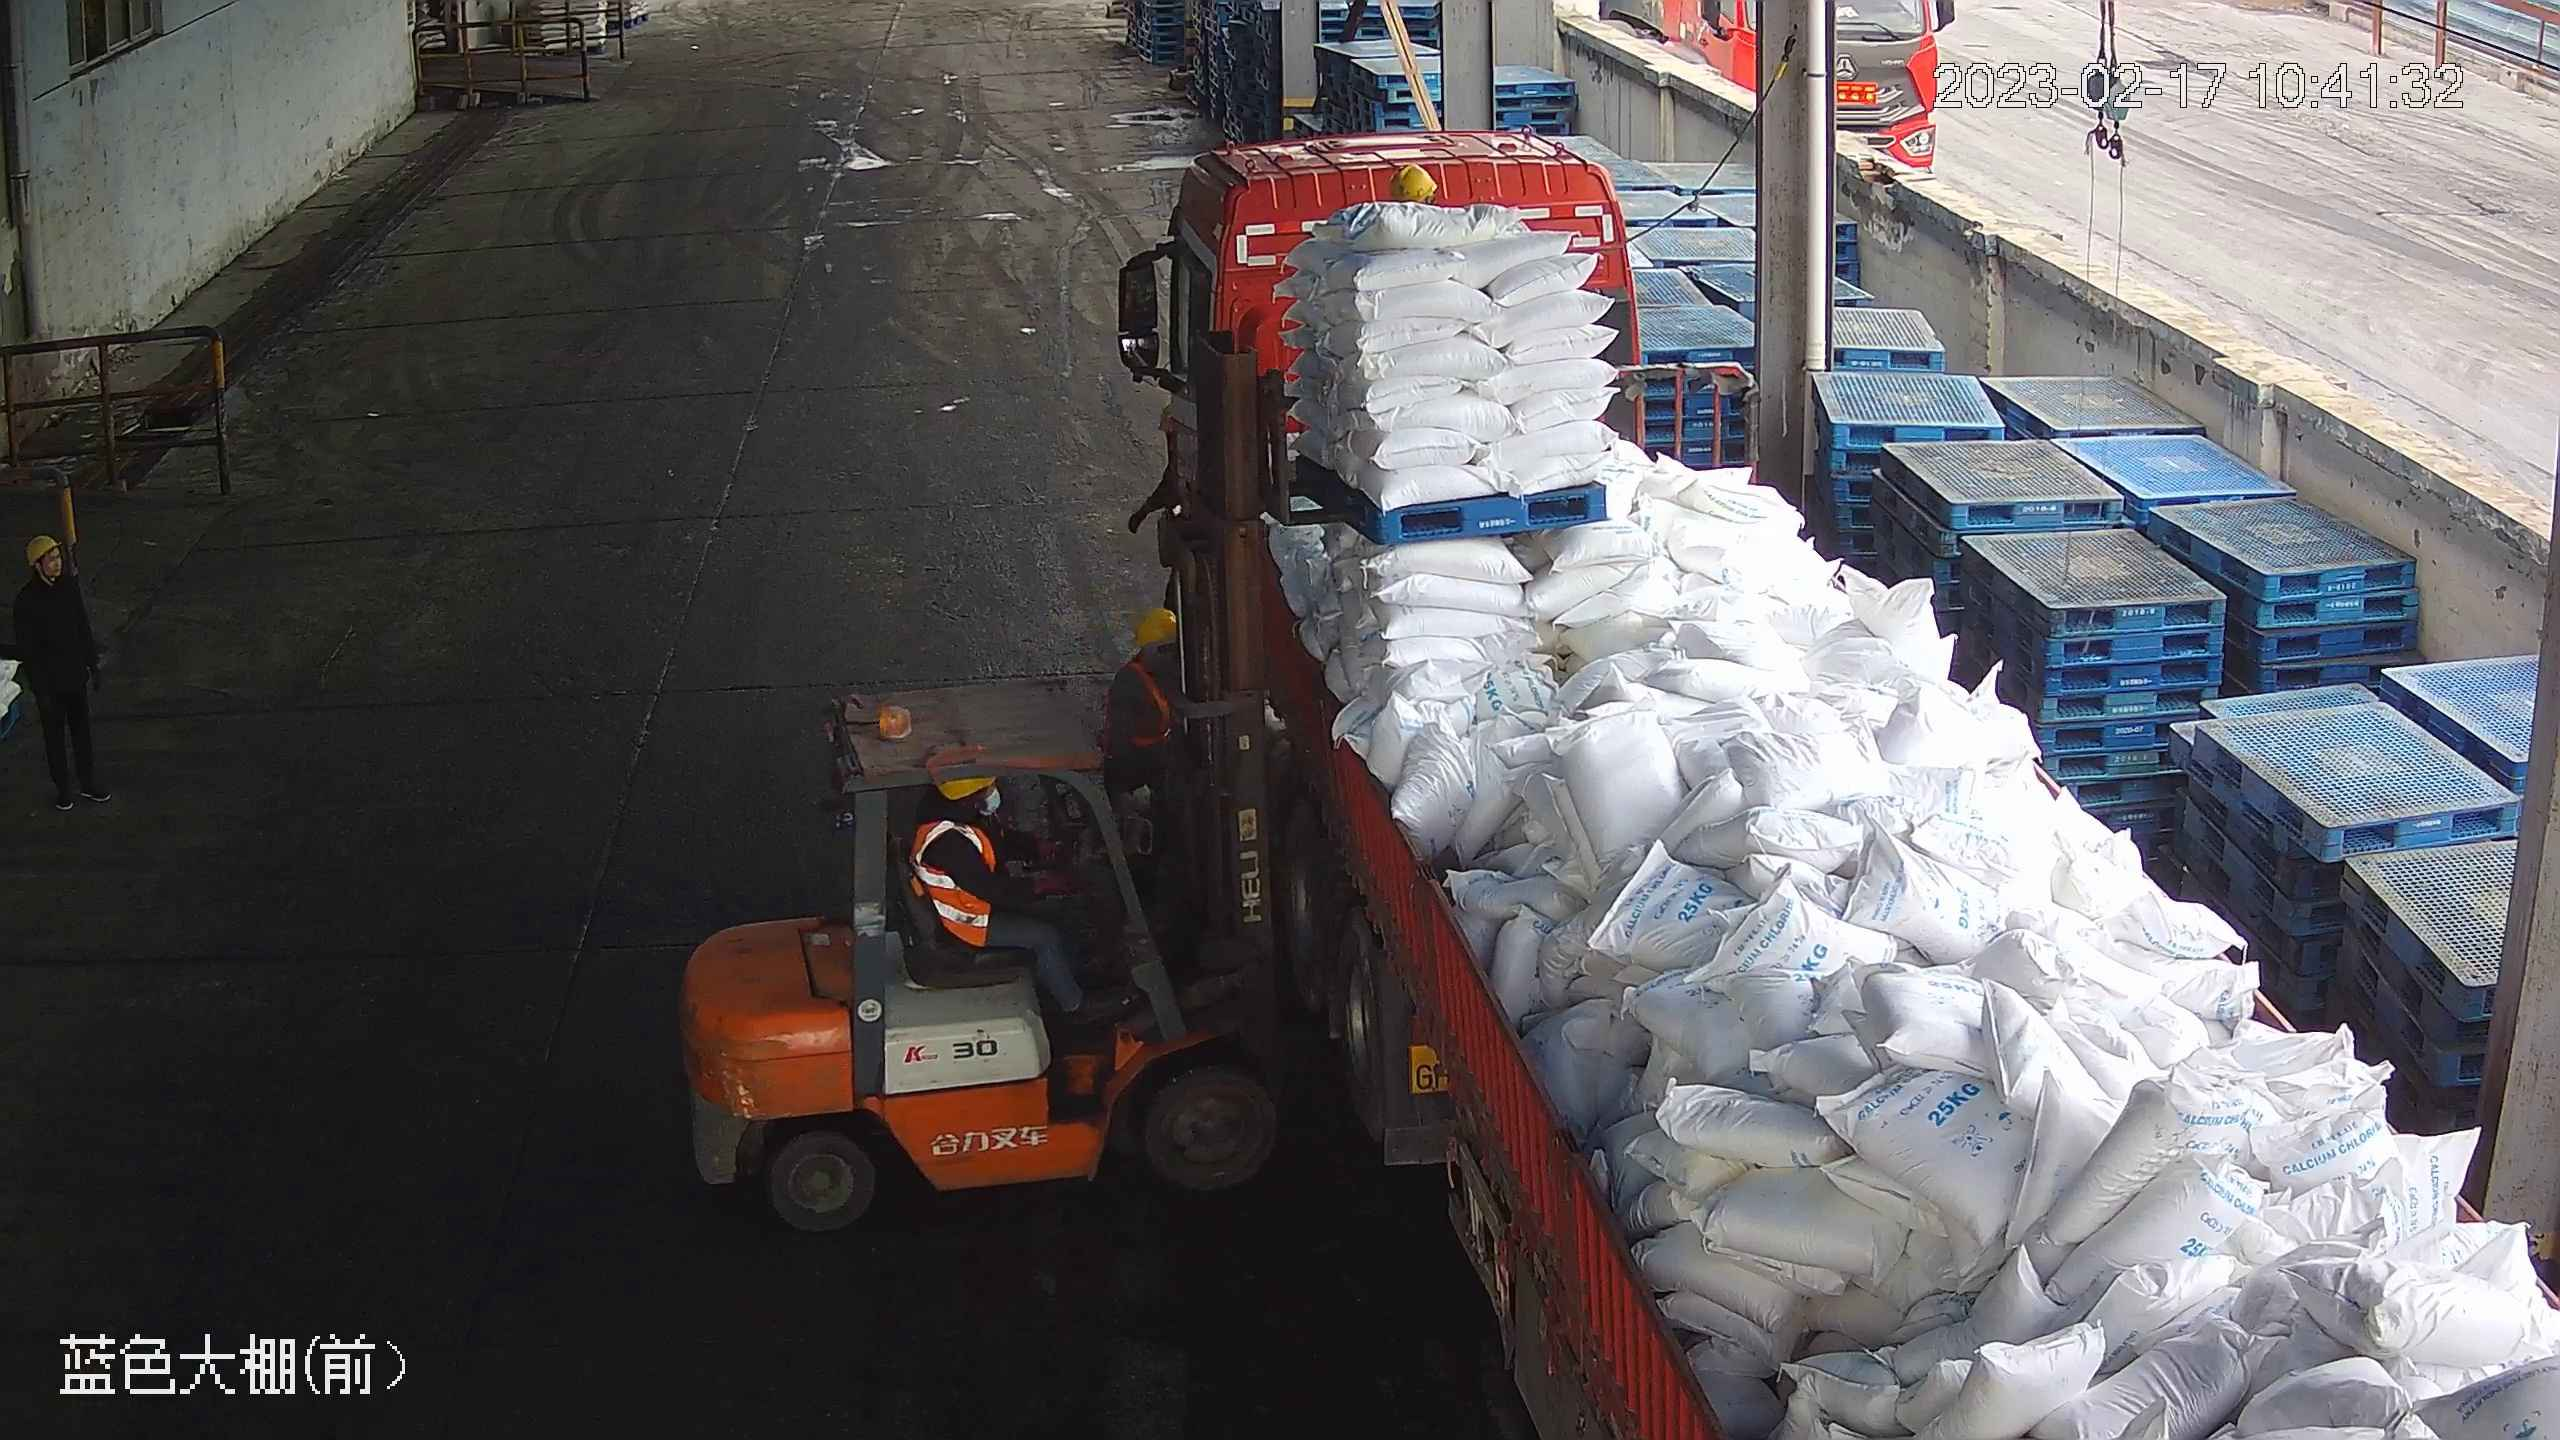head: (910, 774, 1011, 873), (1111, 606, 1182, 704), (11, 533, 90, 616)
helmet: (1132, 605, 1180, 646), (1389, 160, 1437, 201), (932, 779, 994, 798), (25, 534, 62, 564)
people: (1097, 599, 1241, 962), (902, 771, 1102, 1027), (7, 531, 113, 813)
truck: (1110, 128, 2560, 1440)
